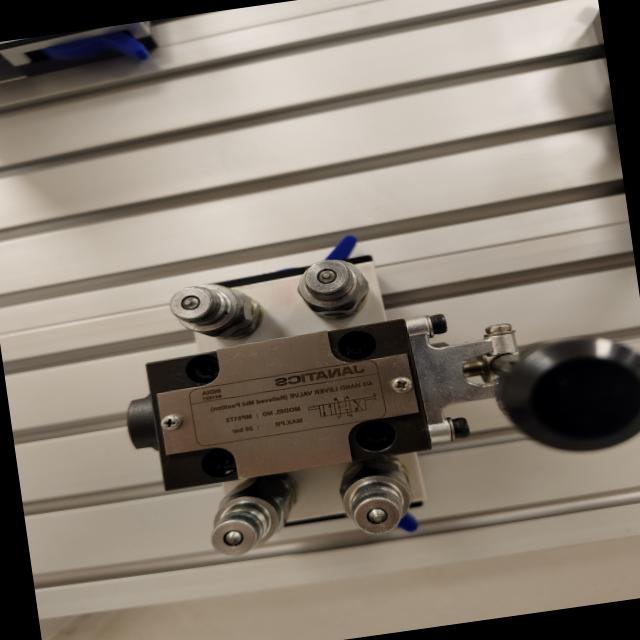4by3 hand lever valve: (96, 187, 640, 587)
